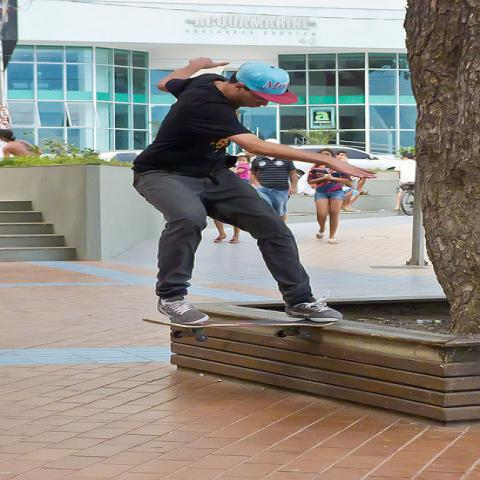car: (283, 143, 417, 183), (97, 151, 141, 162)
